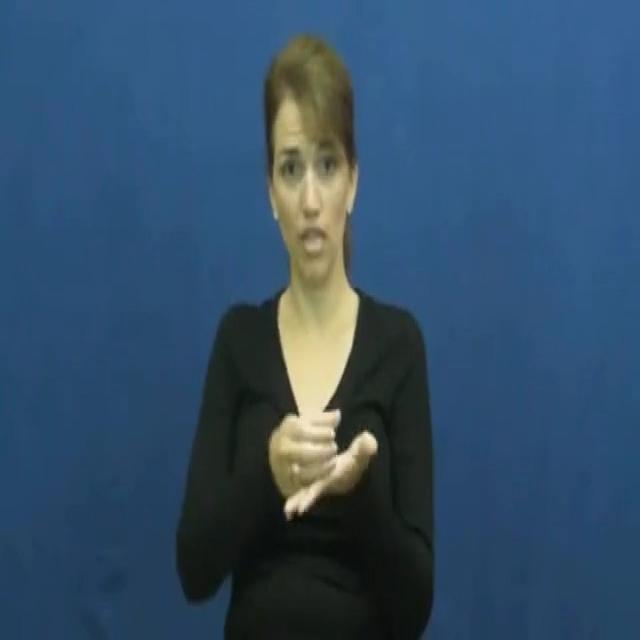straw: (256, 390, 380, 552)
